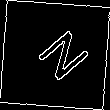N_SW: (23, 23, 87, 87)
